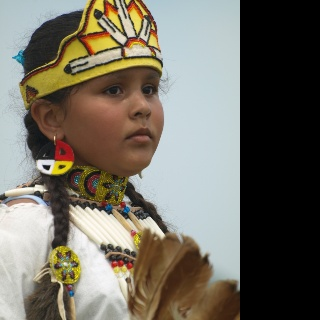without_mask: (59, 67, 164, 177)
